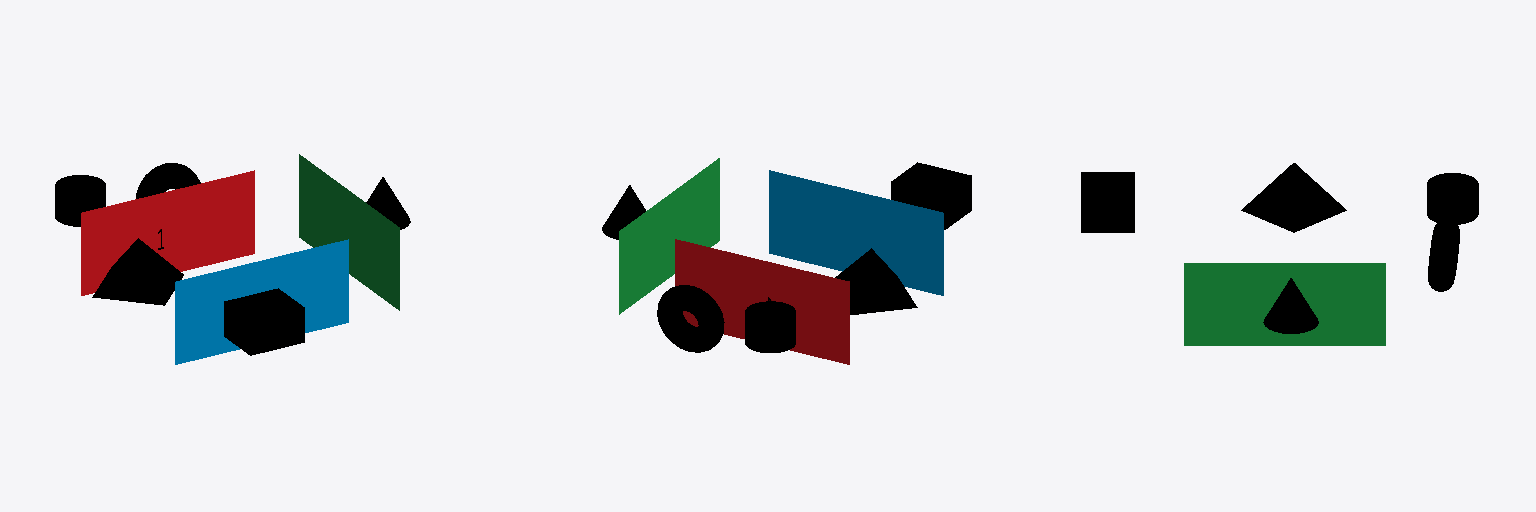
The picture shows the model from 3 angles: view 1: azimuth 30°, elevation 25°; view 2: azimuth 150°, elevation 25°; view 3: azimuth 270°, elevation 25°; orthographic projection.
Visible parts, largest first — view 1: Plane_2, Plane_1, Plane_3, pCube1, pPyramid1, pCylinder1, pTorus1, pCone1; view 2: Plane_1, Plane_2, Plane_3, pTorus1, pCube1, pPyramid1, pCylinder1, pCone1; view 3: Plane_3, pPyramid1, pCube1, pCylinder1, pTorus1, pCone1.
Boxes of the visible parts, x1=… form: Plane_2: x1=81, y1=170, x2=254, y2=295; Plane_1: x1=175, y1=239, x2=348, y2=364; Plane_3: x1=299, y1=154, x2=399, y2=310; pCube1: x1=224, y1=288, x2=304, y2=355; pPyramid1: x1=92, y1=238, x2=183, y2=305; pCylinder1: x1=55, y1=175, x2=105, y2=226; pTorus1: x1=136, y1=163, x2=200, y2=198; pCone1: x1=366, y1=177, x2=410, y2=229; Plane_1: x1=769, y1=170, x2=943, y2=295; Plane_2: x1=675, y1=239, x2=849, y2=364; Plane_3: x1=619, y1=158, x2=719, y2=314; pTorus1: x1=657, y1=285, x2=724, y2=352; pCube1: x1=891, y1=162, x2=971, y2=229; pPyramid1: x1=835, y1=248, x2=917, y2=314; pCylinder1: x1=745, y1=301, x2=795, y2=352; pCone1: x1=602, y1=185, x2=645, y2=239; Plane_3: x1=1184, y1=263, x2=1385, y2=345; pPyramid1: x1=1241, y1=163, x2=1346, y2=232; pCube1: x1=1081, y1=172, x2=1134, y2=232; pCylinder1: x1=1427, y1=173, x2=1478, y2=224; pTorus1: x1=1428, y1=219, x2=1459, y2=291; pCone1: x1=1263, y1=278, x2=1318, y2=333.
Size of the model in its own units: 13.85 by 3.67 by 15.21.
8 materials, 3 textured.